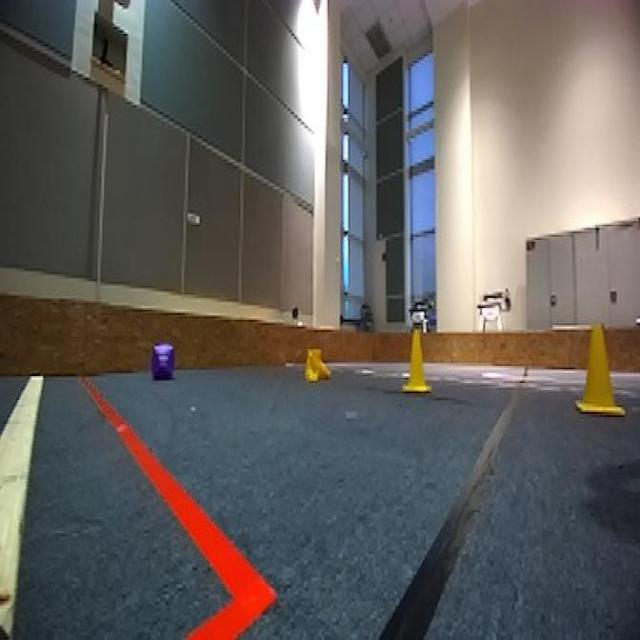frc_cone: (575, 325, 619, 415), (401, 325, 434, 395), (303, 347, 334, 383)
frc_cube: (151, 340, 176, 380)
